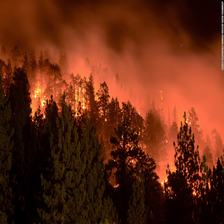fire: (21, 78, 121, 125)
